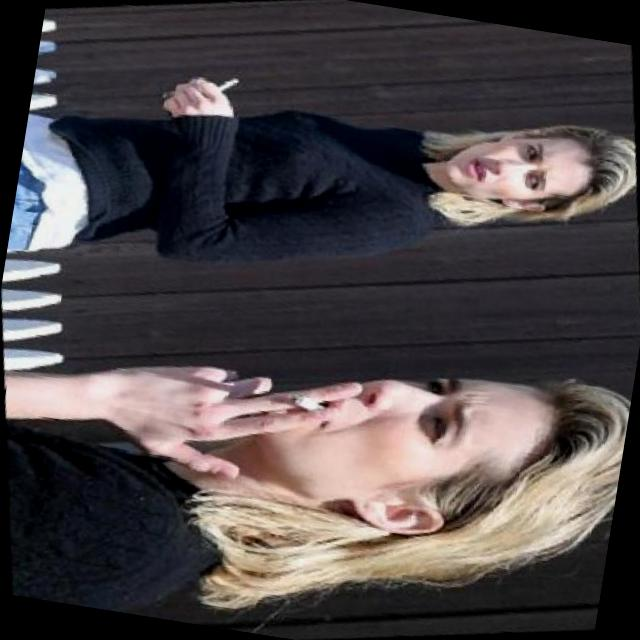cigarette: (278, 386, 330, 424), (208, 73, 242, 100)
